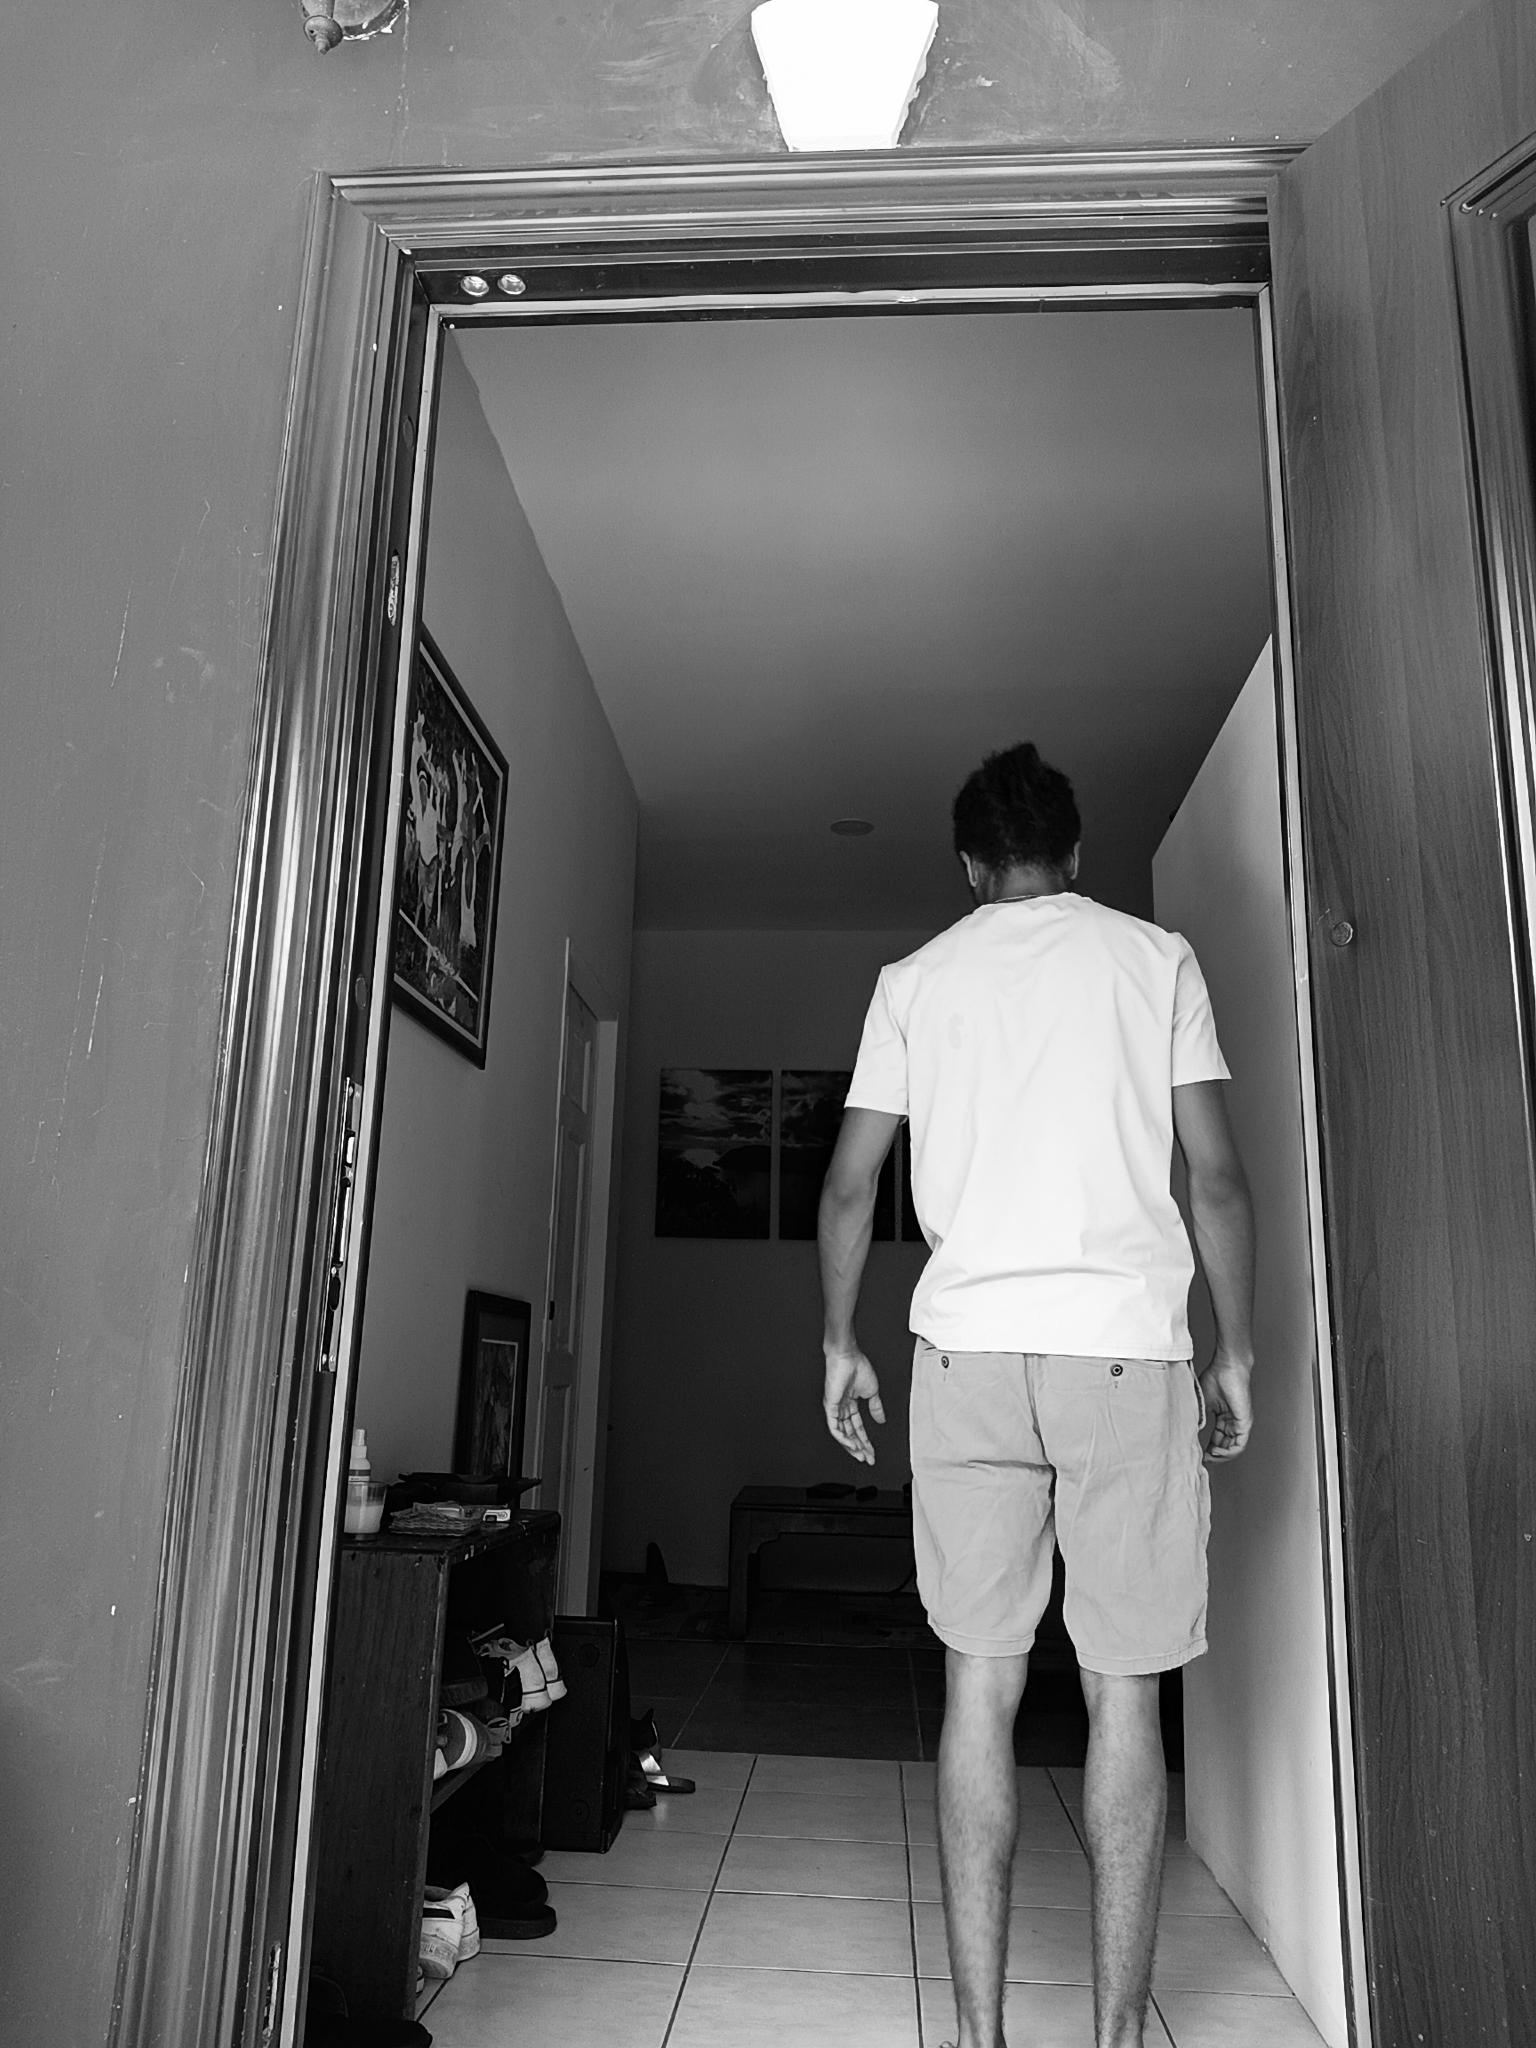back: (810, 737, 1263, 2042)
